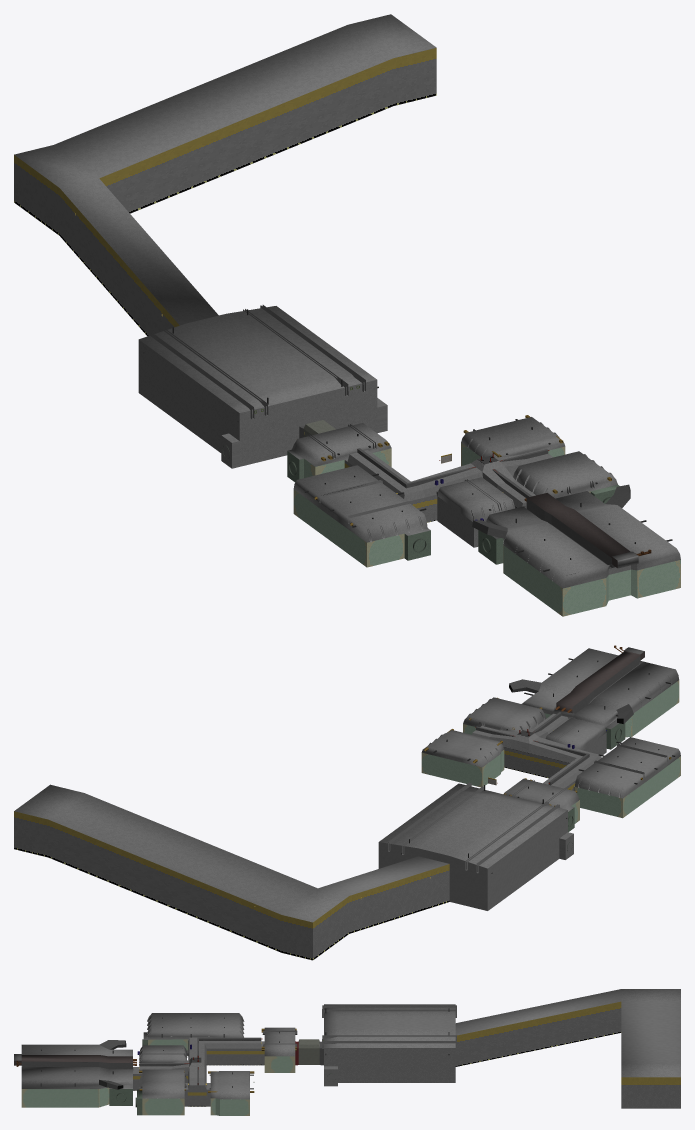
The model's file is bunker.glb.
The picture shows the model from 3 angles, top to bottom: view 1: azimuth 30°, elevation 25°; view 2: azimuth 150°, elevation 25°; view 3: azimuth 270°, elevation 25°; orthographic projection. The views are drawn at different scales.
Parts seen in each view (by area): view 1: bunker-walls; view 2: bunker-walls; view 3: bunker-walls, bunker-pipes.
Part boxes in pixels (<box>): bunker-walls: <box>14,14,680,616</box>; bunker-walls: <box>14,647,680,960</box>; bunker-walls: <box>14,989,680,1115</box>; bunker-pipes: <box>16,1028,323,1092</box>.
Size of what is drawn, in the model's own units: 57.76 by 19.14 by 117.
9 materials, 7 textured.
